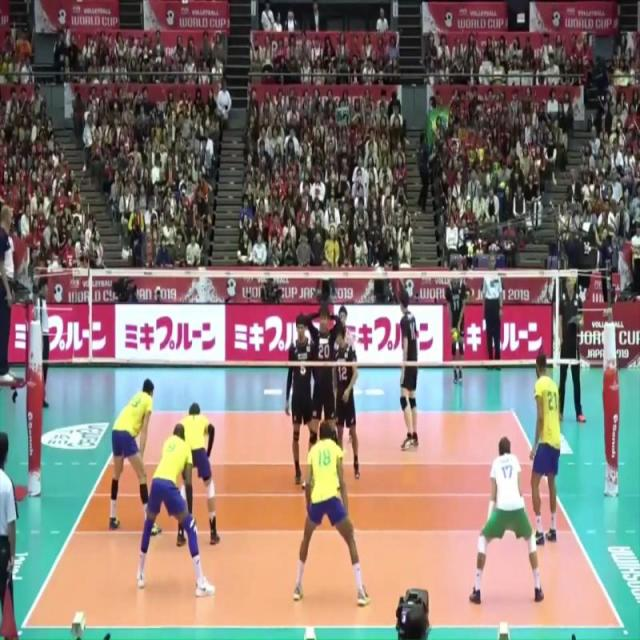volleyball: (449, 325, 460, 343)
